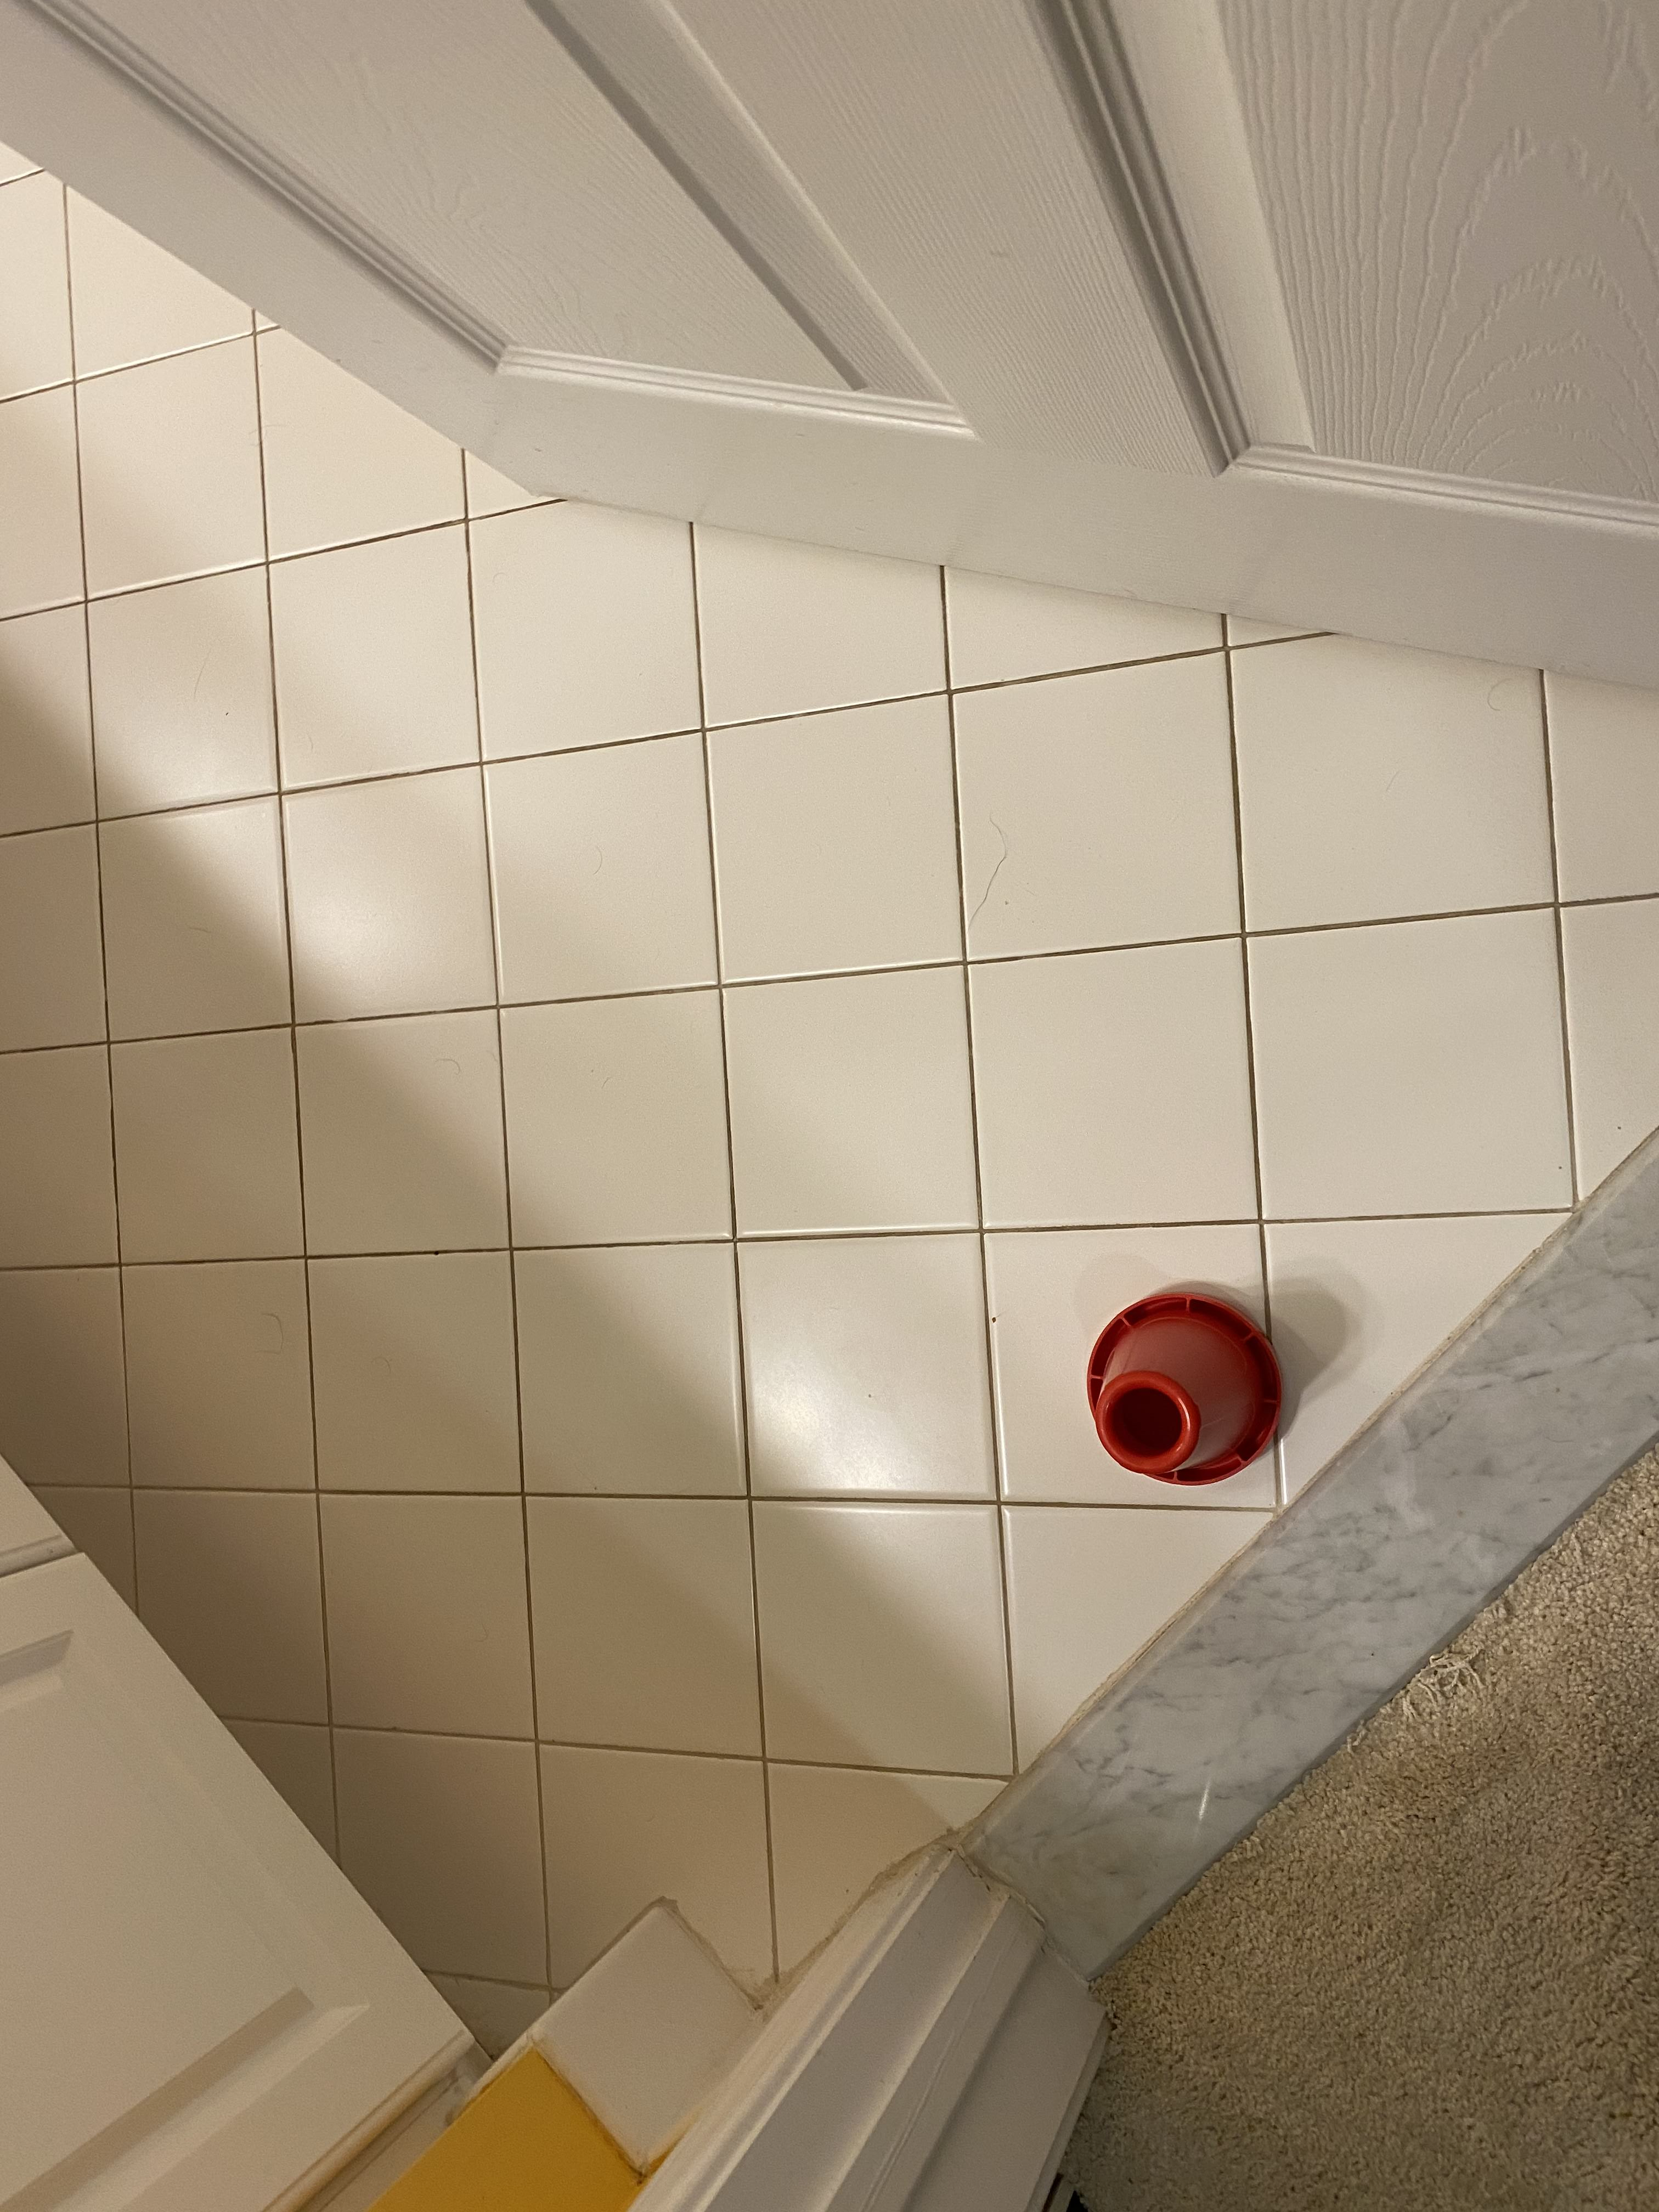redCone: (1084, 1291, 1284, 1487)
